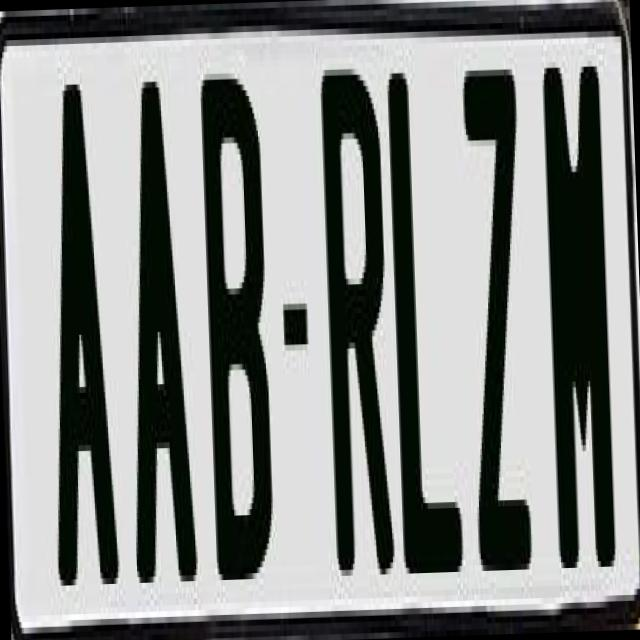A: (116, 74, 196, 612), (36, 71, 115, 592)
B: (196, 66, 282, 604)
L: (381, 54, 462, 585)
M: (540, 54, 622, 556)
R: (318, 61, 396, 604)
Z: (457, 63, 531, 594)
